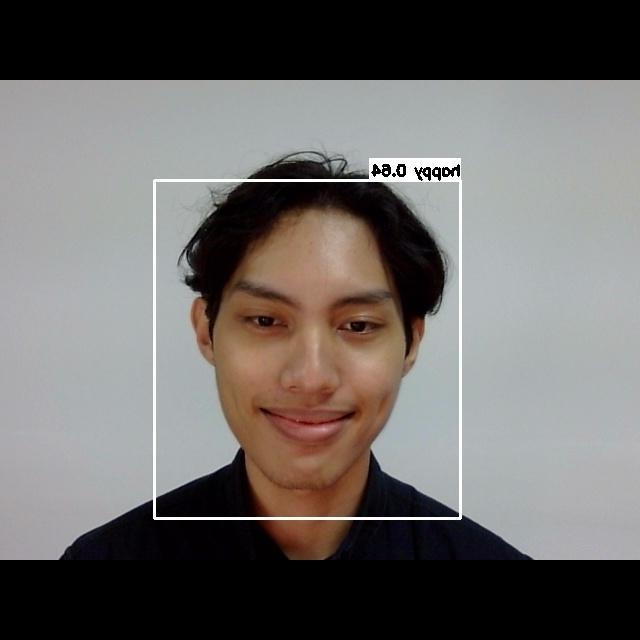Happy: (215, 260, 409, 466)
